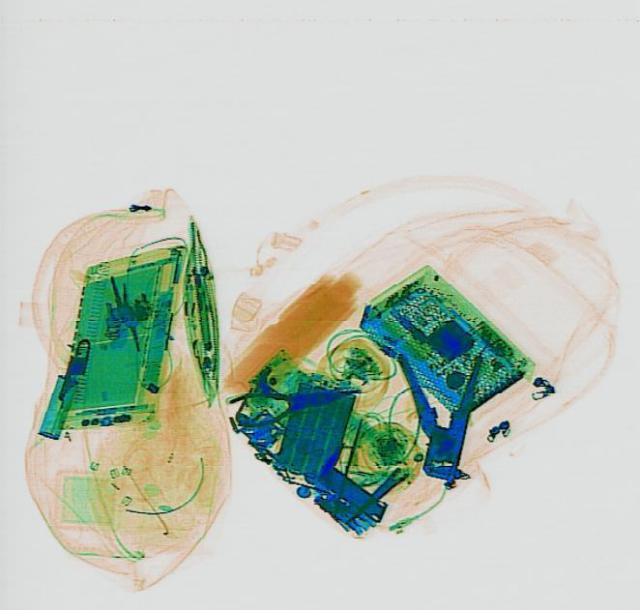Knife: (339, 463, 407, 524)
Pliers: (394, 348, 482, 483), (224, 371, 362, 428)
